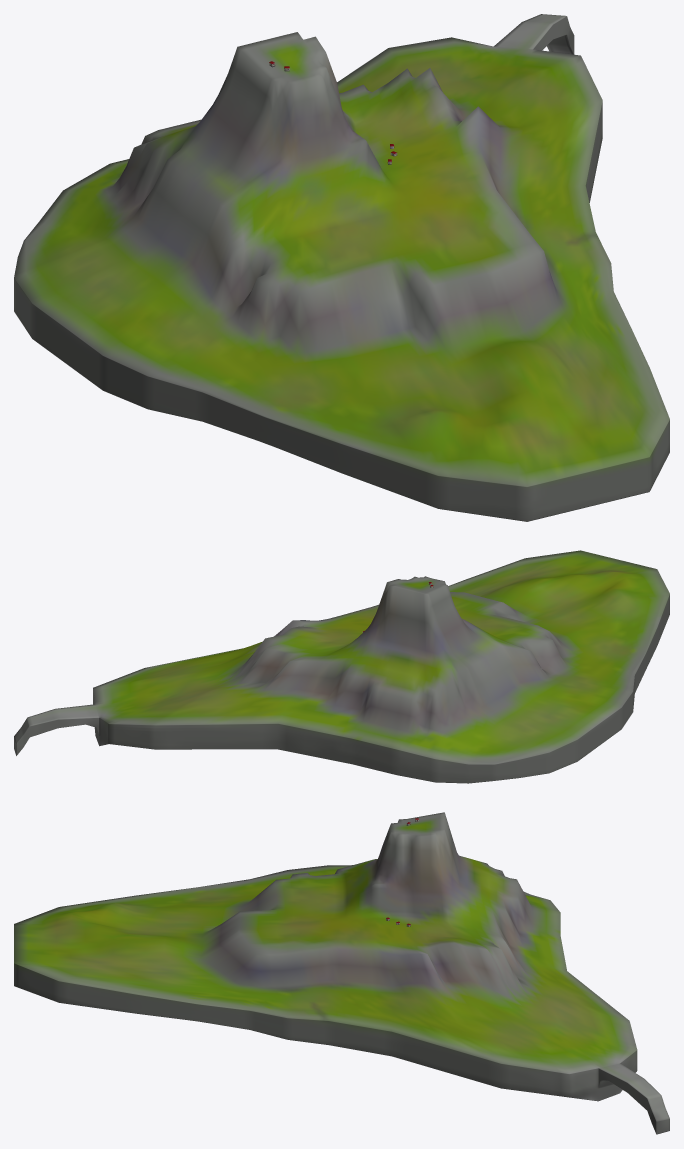
The model's file is Island-blurry.gltf.
3 renders of one model, top to bottom at view 1: azimuth 30°, elevation 25°; view 2: azimuth 150°, elevation 25°; view 3: azimuth 270°, elevation 25°, orthographic. The views are drawn at different scales.
Parts seen in each view (by area): view 1: Cube; view 2: Cube; view 3: Cube.
Boxes of the visible parts, x1,y1,x2,y2 form: Cube: (14, 14, 669, 521); Cube: (14, 550, 669, 783); Cube: (14, 812, 669, 1134).
Bounding box in the file's own units: 63.98 × 21.21 × 76.92.
